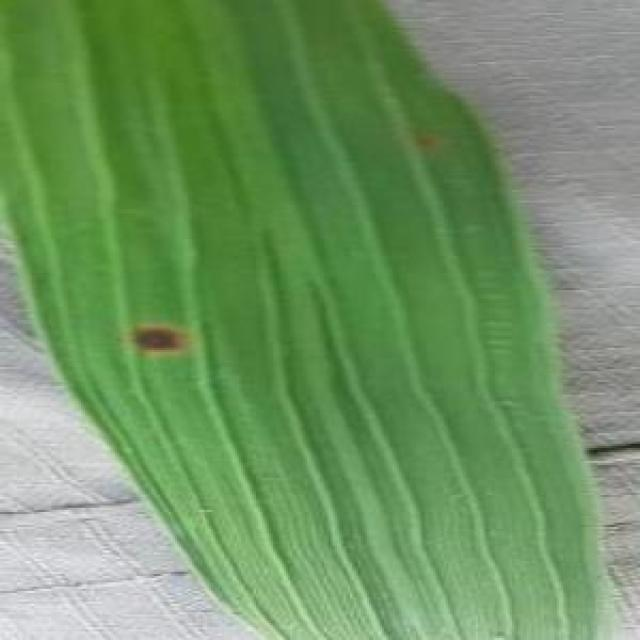Brown_Spot: (124, 307, 196, 363)
